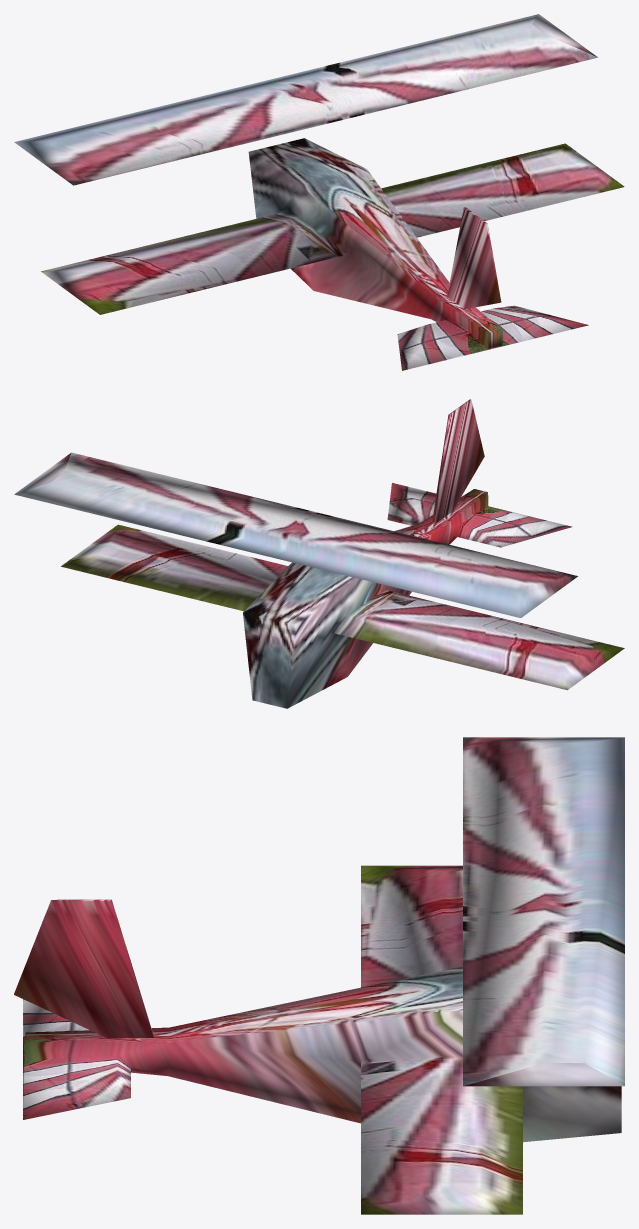
The model's file is biplane.obj.
The picture shows the model from 3 angles, top to bottom: view 1: azimuth 30°, elevation 25°; view 2: azimuth 150°, elevation 25°; view 3: azimuth 270°, elevation 25°; orthographic projection. The views are drawn at different scales.
Visible parts, largest first — view 1: Cube.001_Cube.002; view 2: Cube.001_Cube.002; view 3: Cube.001_Cube.002.
Boxes of the visible parts, x1,y1,x2,y2 form: Cube.001_Cube.002: (14,14,624,370); Cube.001_Cube.002: (14,399,624,708); Cube.001_Cube.002: (14,737,624,1214).
Size of the model in its own units: 10.5 by 3.22 by 7.61.
1 material, 1 textured.
